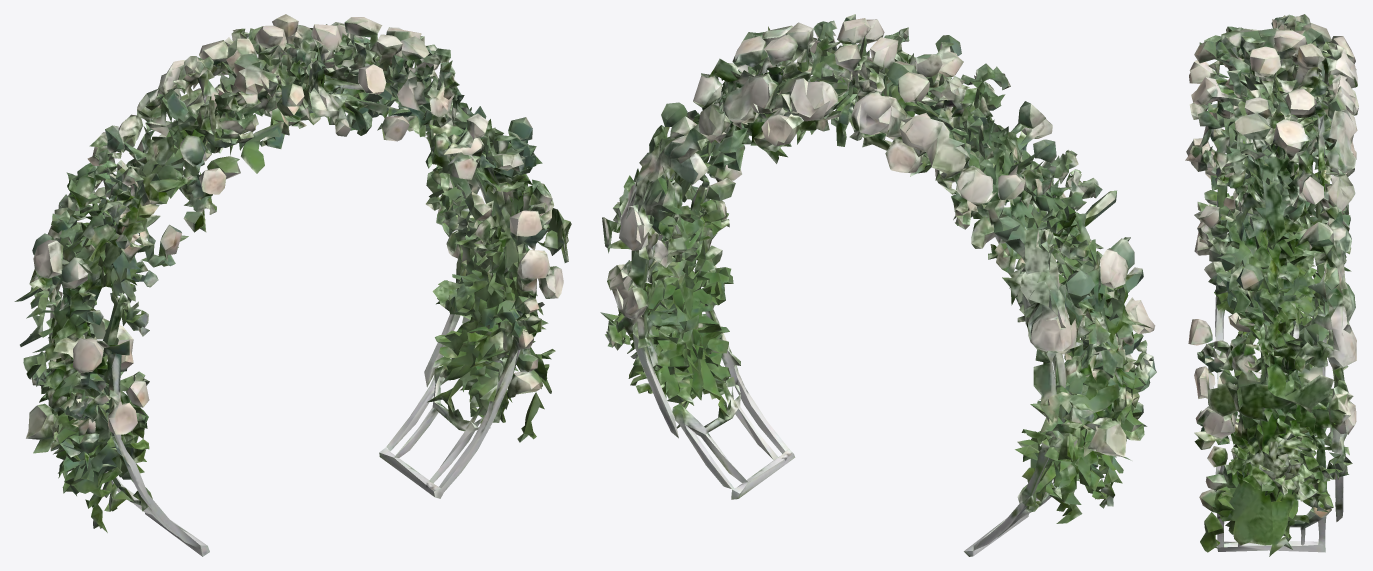
Rendered from aholo-20261119-floral-arch.glb.
3 renders of one model, left to right at view 1: azimuth 30°, elevation 25°; view 2: azimuth 150°, elevation 25°; view 3: azimuth 270°, elevation 25°, orthographic. The views are drawn at different scales.
Visible parts, largest first — view 1: geometry_0; view 2: geometry_0; view 3: geometry_0.
Part boxes in pixels (left/top/right/bottom): geometry_0: left=14, top=14, right=571, bottom=556; geometry_0: left=600, top=14, right=1156, bottom=556; geometry_0: left=1185, top=14, right=1358, bottom=556.
Size of the model in its own units: 2.49 by 2.2 by 0.7566.
Materials: 1 (1 with a texture image).
